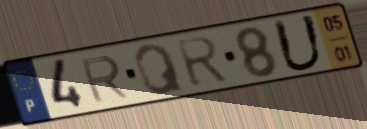4: (48, 56, 90, 114)
8: (234, 24, 282, 80)
Q: (131, 42, 188, 98)
R: (173, 34, 231, 91), (77, 53, 132, 106)
U: (270, 12, 327, 74)
